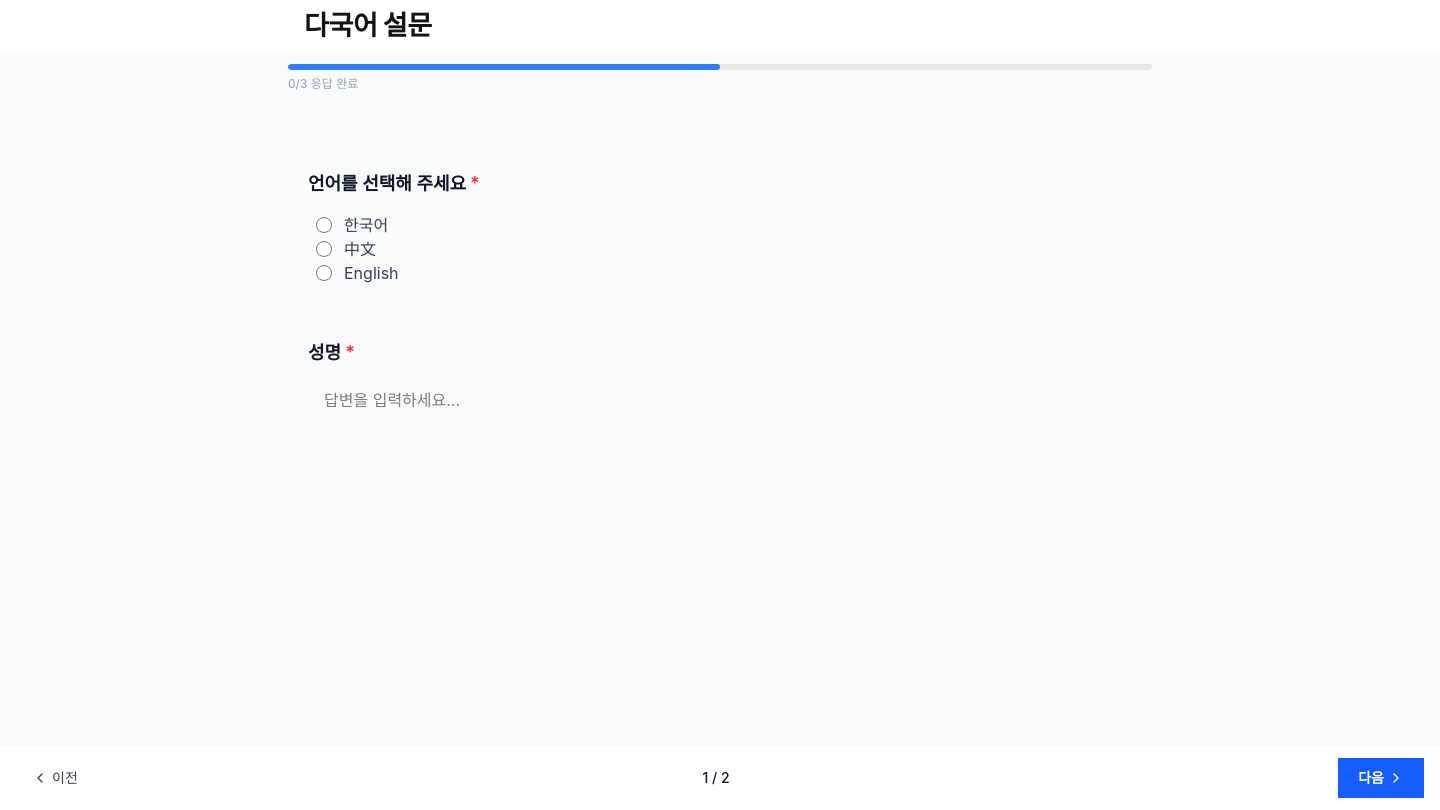
Test: 응답 화면의 현재 언어 › 모바일 하단 내비와 응답 진행도 고른 언어다
Expected: the text "언어를 선택해 주세요" is shown, 308,173 -> 466,194
Click the text "English". click: (371, 273)
box: 344,263 -> 398,283
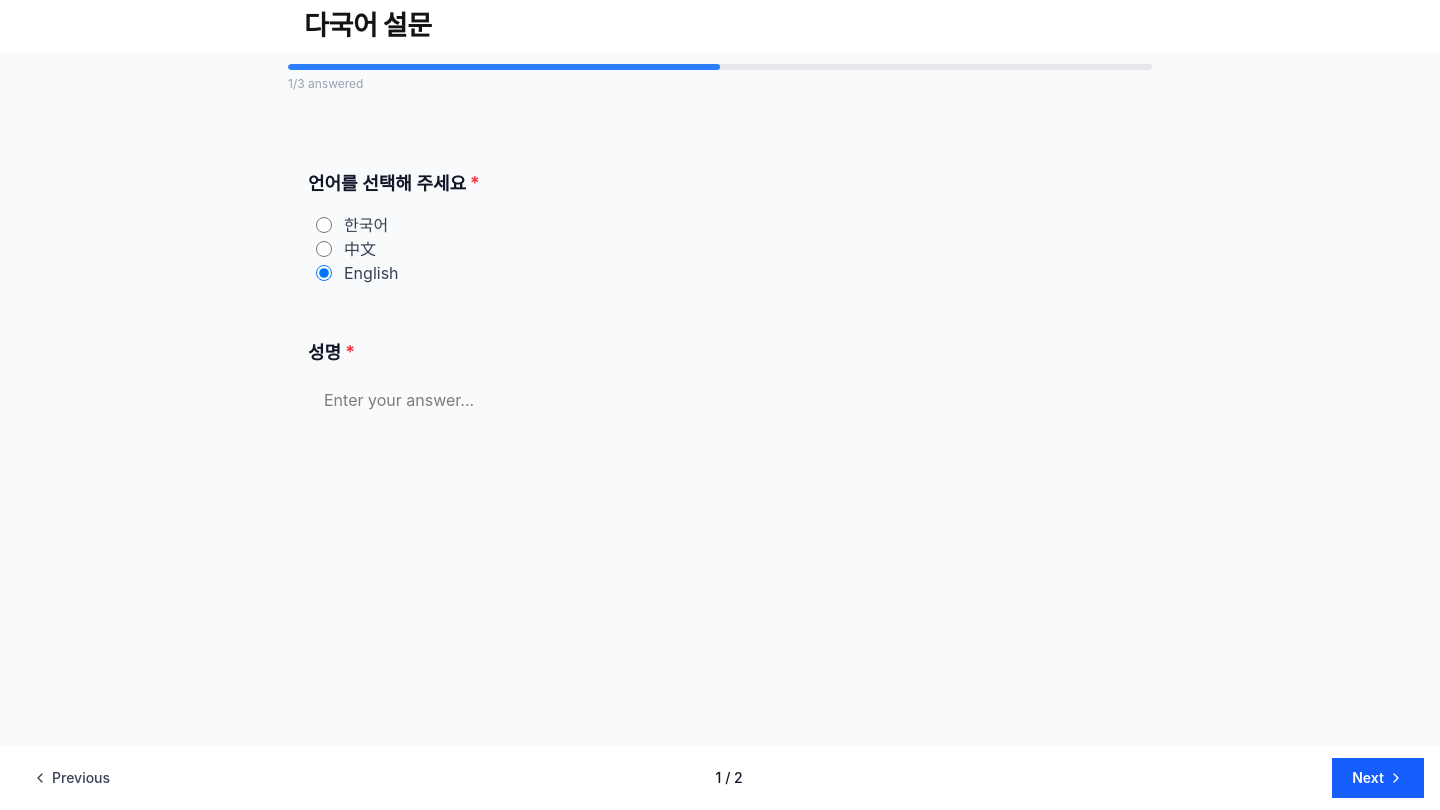
Expected: the text "1/3 answered" is shown, 288,76 -> 363,92
